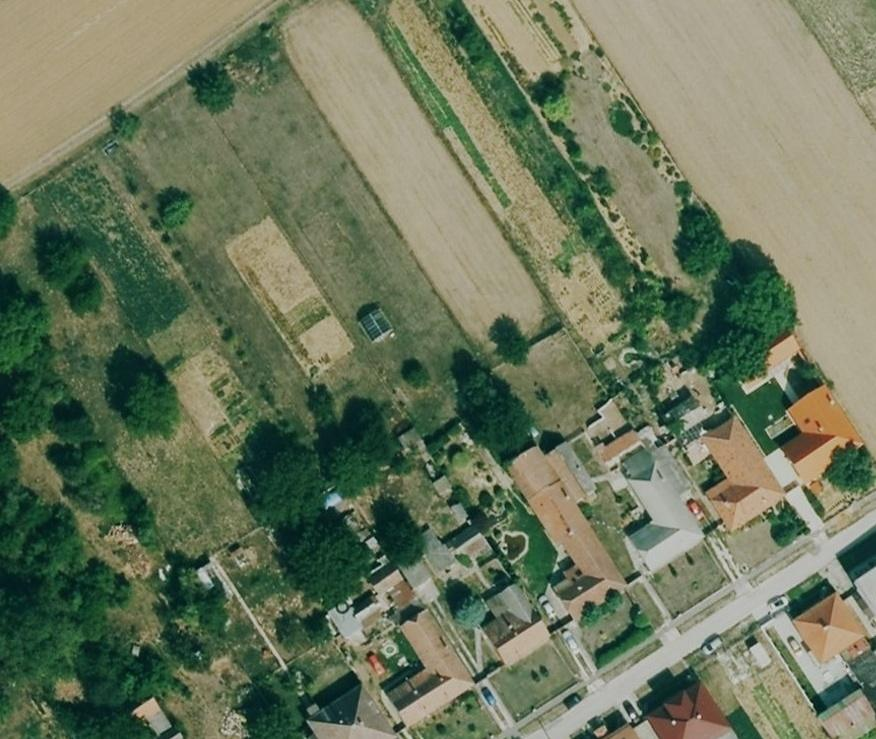field: (0, 2, 554, 556), (473, 0, 876, 451), (0, 0, 279, 188)
forest: (0, 272, 128, 684), (238, 387, 399, 608)
